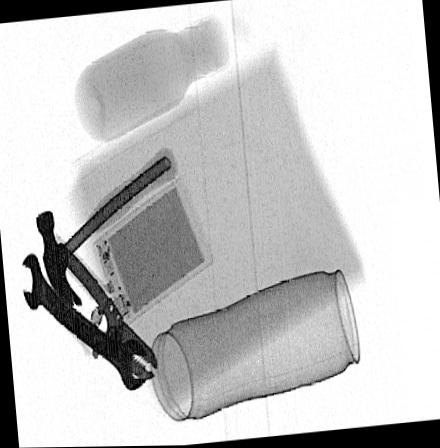Hammer: (37, 146, 178, 307)
Pliers: (28, 228, 158, 380)
Powerbank: (91, 175, 213, 330)
Wrench: (22, 253, 148, 392)
